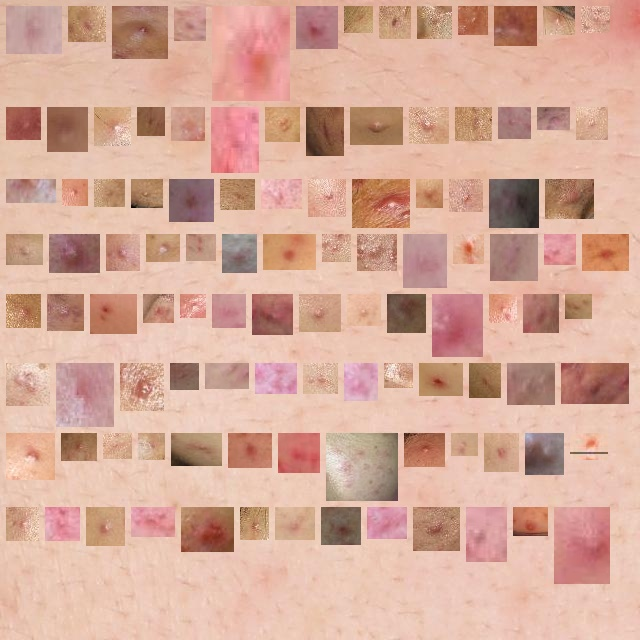papule: (220, 14, 282, 93), (334, 441, 390, 493), (562, 515, 602, 576), (64, 371, 106, 419), (440, 302, 475, 349), (14, 6, 54, 46), (219, 115, 251, 165), (120, 14, 160, 51), (360, 187, 402, 220), (569, 371, 621, 396), (497, 187, 531, 220), (189, 515, 226, 544), (411, 242, 439, 280), (14, 441, 47, 472), (498, 242, 530, 273), (474, 515, 499, 554), (128, 371, 156, 403), (421, 515, 452, 543), (515, 371, 547, 397), (358, 115, 395, 137), (57, 242, 92, 265), (553, 187, 586, 211), (177, 187, 206, 214), (14, 371, 42, 398), (98, 302, 129, 326), (271, 242, 308, 262), (314, 115, 336, 148), (55, 115, 80, 144), (304, 14, 330, 41), (590, 242, 621, 263), (502, 14, 529, 38), (260, 302, 285, 327), (286, 441, 312, 465), (533, 441, 556, 467), (179, 441, 214, 458), (395, 300, 418, 325), (307, 302, 333, 324), (14, 179, 48, 195), (236, 441, 264, 460), (94, 515, 117, 538), (329, 515, 353, 537), (417, 115, 441, 136), (365, 242, 389, 263), (213, 363, 241, 381), (316, 187, 338, 209), (102, 115, 123, 138), (427, 371, 455, 388), (531, 302, 551, 325), (412, 441, 437, 459), (55, 302, 76, 323), (76, 14, 98, 34), (230, 242, 249, 265), (492, 441, 511, 464), (283, 515, 307, 532), (352, 371, 370, 393), (139, 515, 167, 529), (263, 371, 289, 386), (375, 515, 399, 531), (463, 115, 484, 133), (114, 242, 132, 263), (273, 115, 292, 134), (269, 187, 294, 201), (14, 302, 33, 320), (53, 515, 72, 533), (521, 515, 540, 533), (179, 115, 197, 133), (220, 302, 238, 320), (425, 14, 444, 31), (14, 115, 33, 132), (14, 242, 35, 257), (457, 187, 475, 204), (14, 515, 31, 533), (182, 14, 198, 33), (477, 371, 493, 390), (355, 302, 373, 318), (228, 187, 247, 202), (311, 371, 330, 386), (387, 14, 403, 31), (506, 115, 523, 131), (584, 115, 600, 132), (578, 441, 600, 452), (552, 242, 568, 257), (69, 441, 89, 453), (248, 515, 261, 532), (154, 242, 172, 254), (461, 242, 476, 256), (551, 14, 567, 27), (139, 187, 155, 200), (151, 302, 166, 315), (466, 14, 480, 27), (102, 187, 117, 199), (545, 115, 562, 125), (145, 115, 157, 128), (330, 242, 343, 254), (497, 302, 509, 315), (194, 242, 208, 253), (352, 14, 365, 25), (589, 14, 602, 25), (424, 187, 435, 200), (178, 371, 191, 382), (111, 441, 124, 451), (146, 441, 157, 452), (392, 371, 405, 380), (70, 187, 80, 198), (573, 302, 584, 311), (188, 302, 198, 310), (459, 441, 470, 448)
